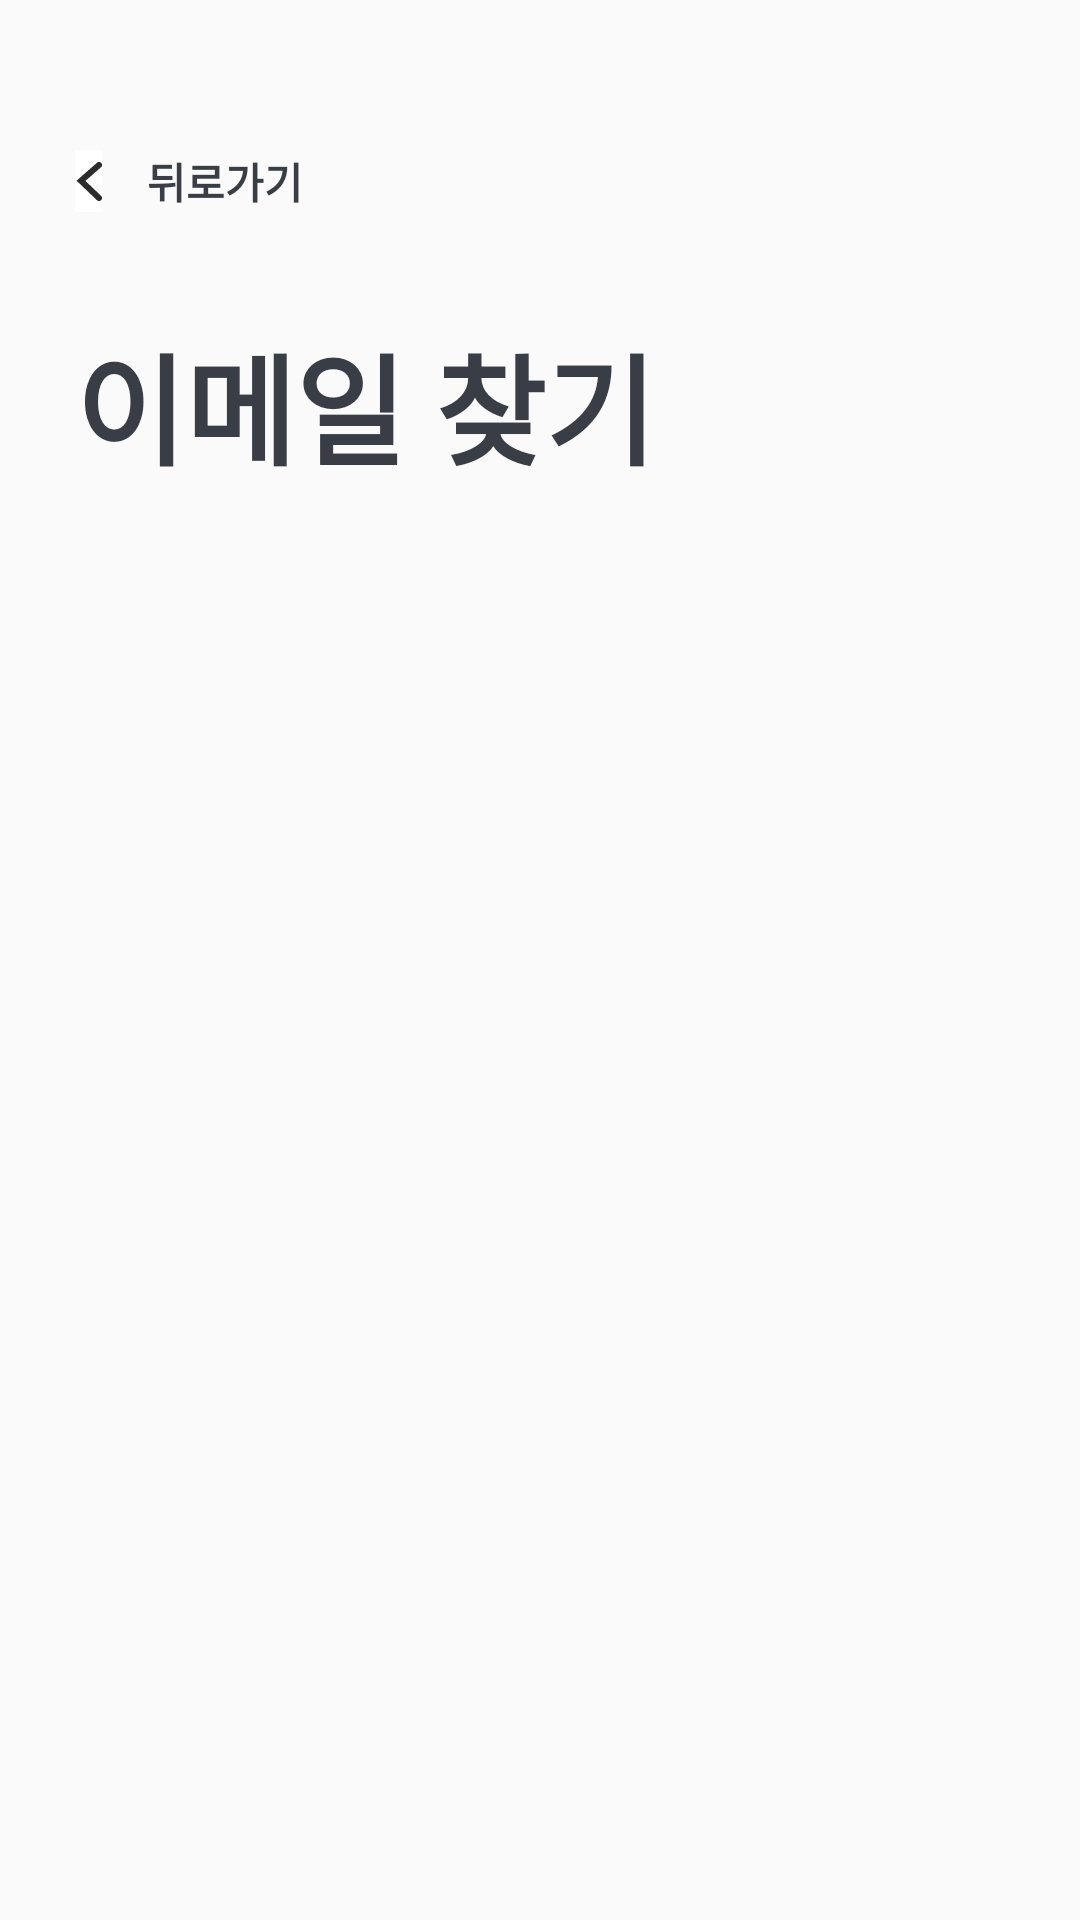

Icons on this 1080x1920 Android screen, each with the point to tap as (x,y):
arrow: (89,181)
